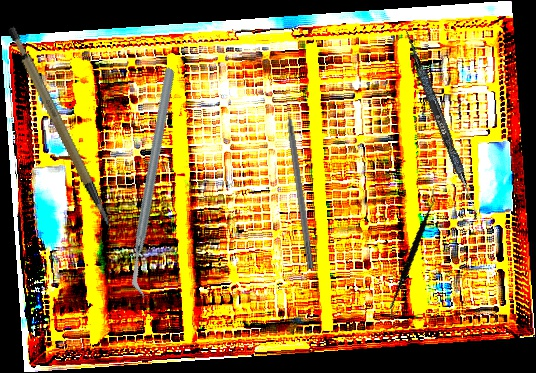Chopper: (52, 65, 258, 300)
Hook Surgical: (281, 89, 316, 270)
Scalpel Handle: (4, 16, 113, 240)
Spatula Surgical: (398, 30, 486, 220), (367, 188, 460, 320)
